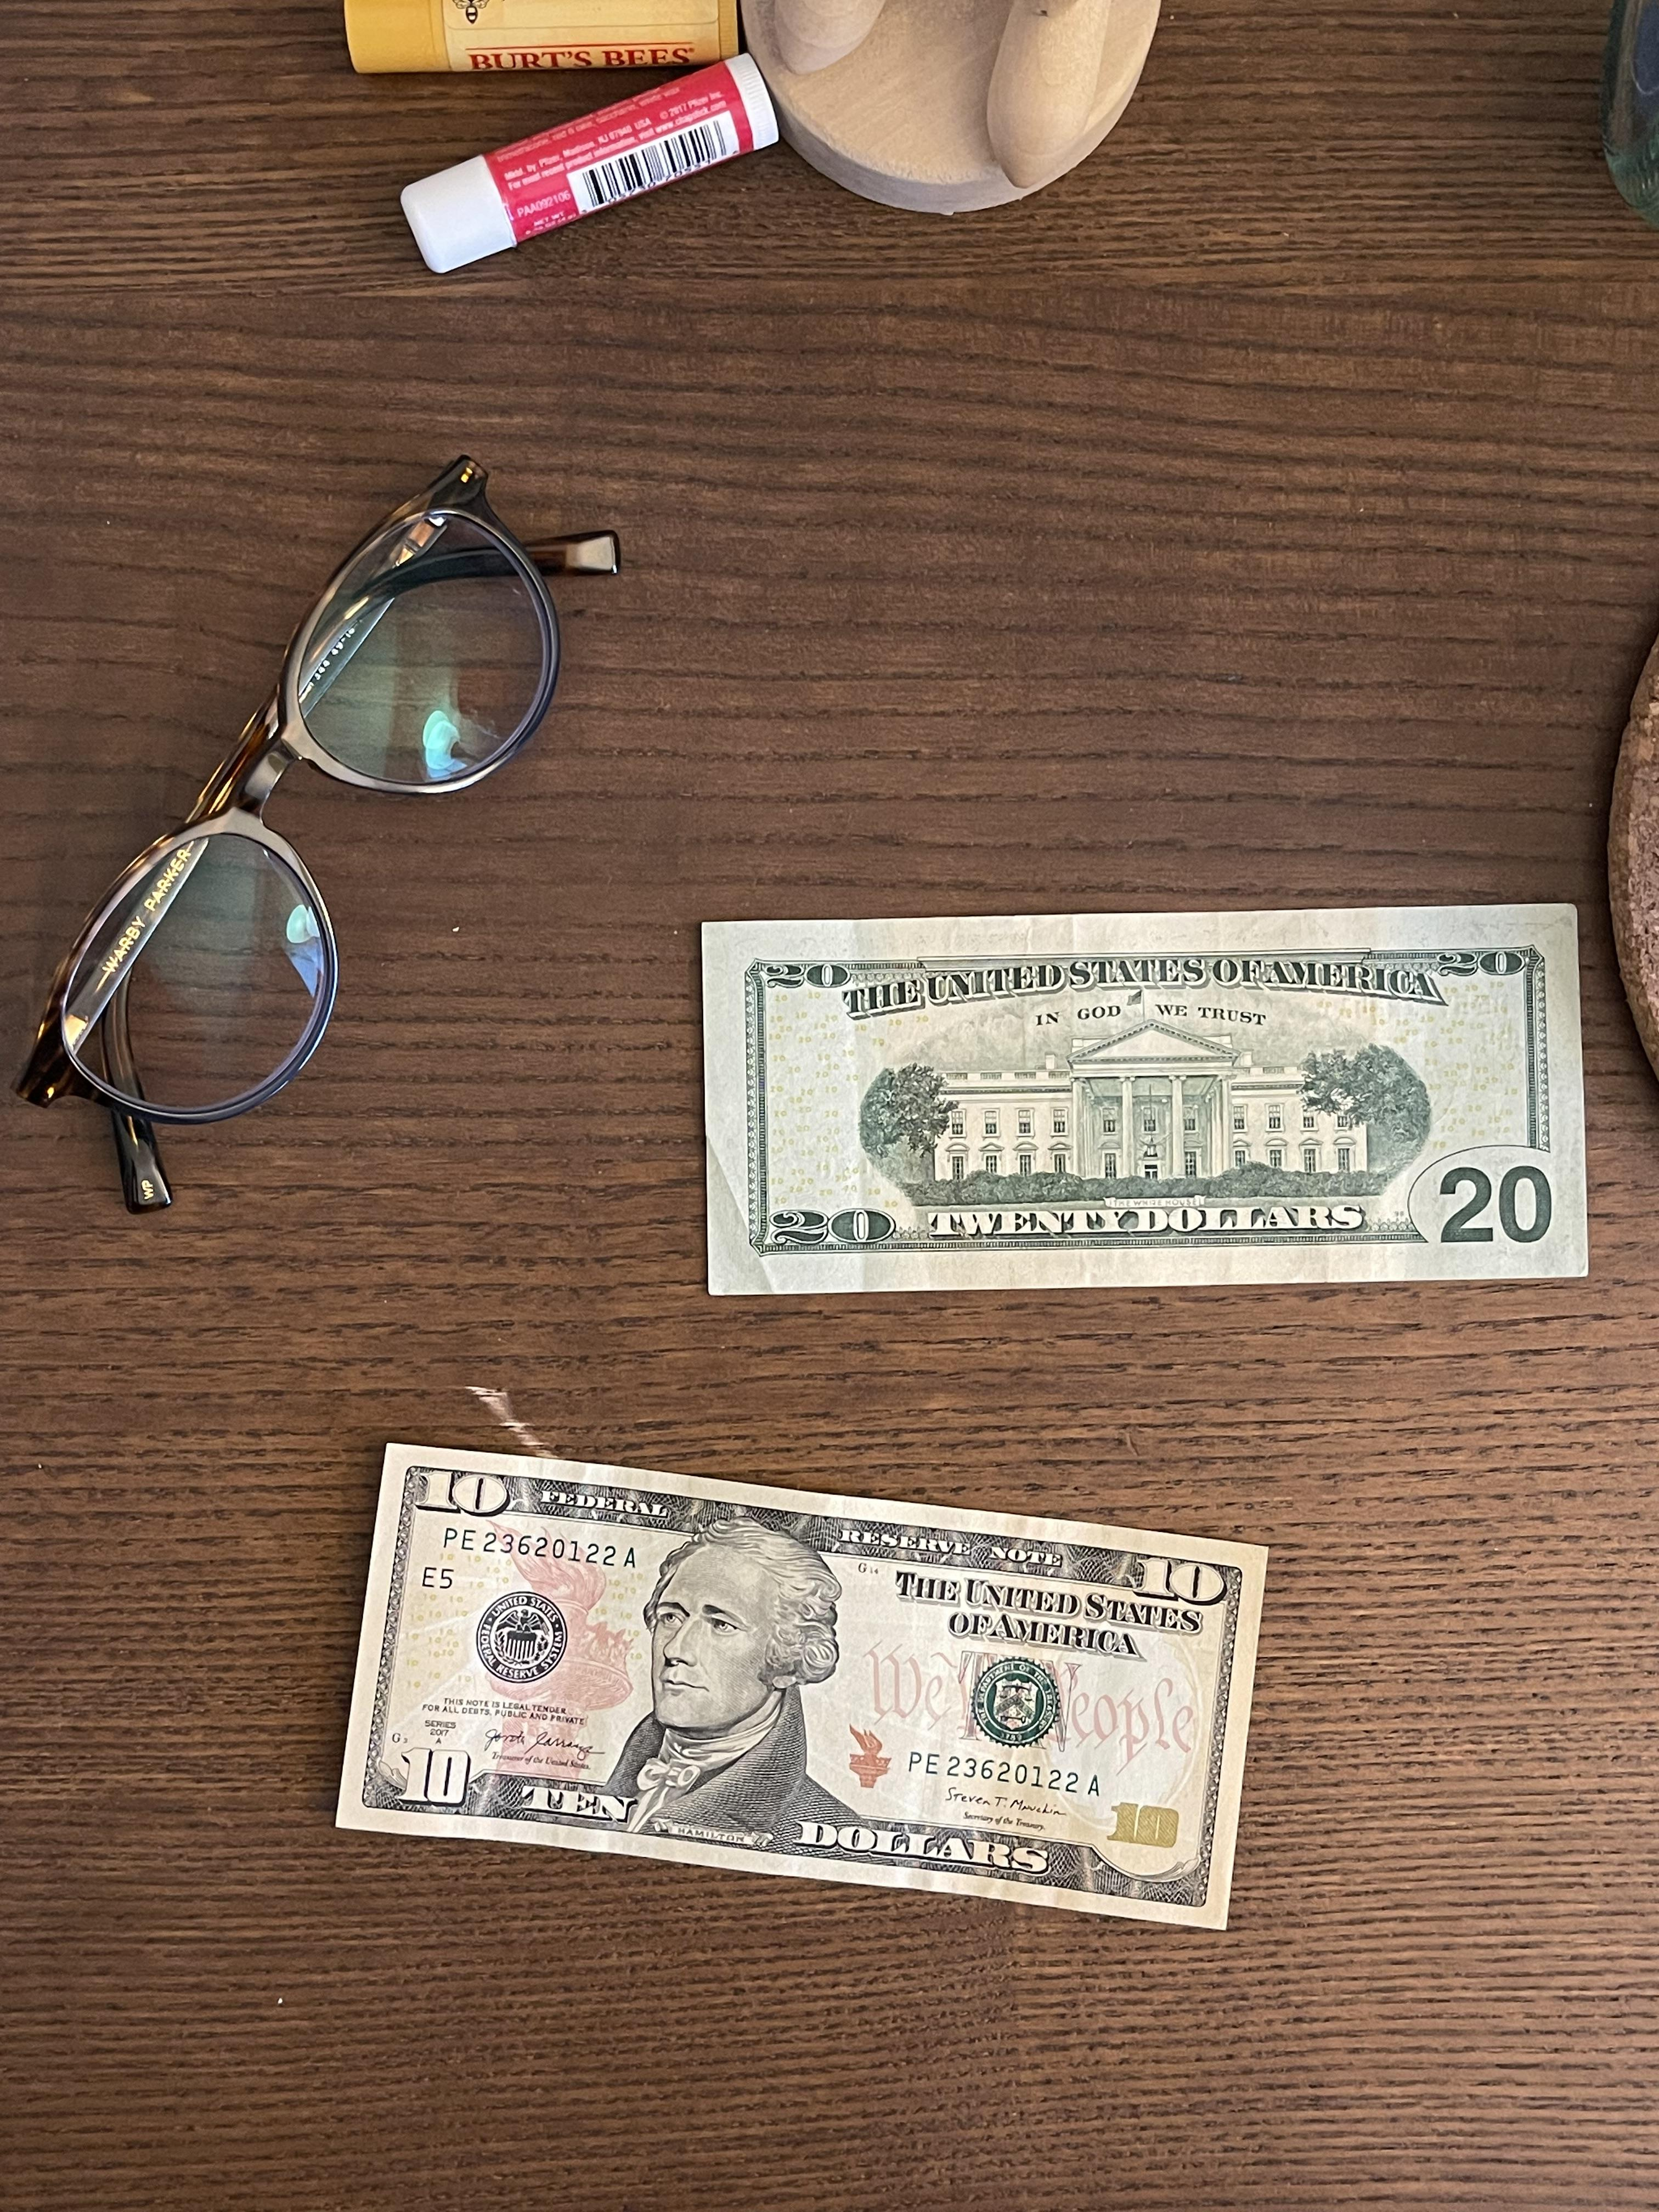TenBill: (333, 1439, 1272, 1935)
TwentyBill: (697, 900, 1589, 1298)
